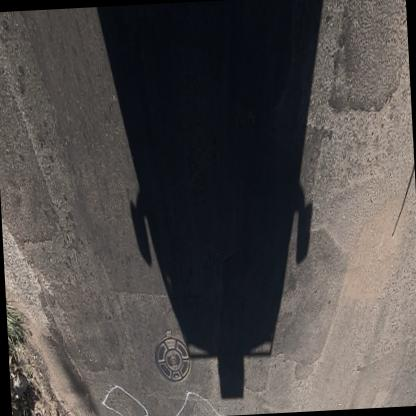manholes: (144, 318, 194, 393)
